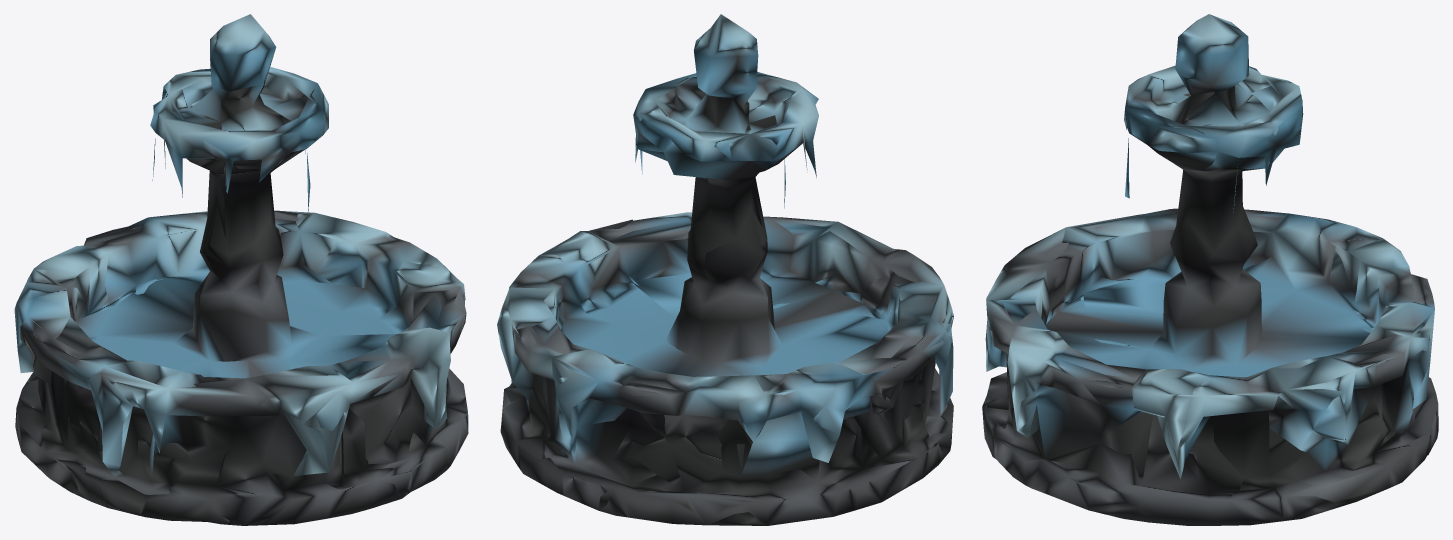
File: gen3d-frozen-fountain-lod0.glb
The picture shows the model from 3 angles, left to right: view 1: azimuth 30°, elevation 25°; view 2: azimuth 150°, elevation 25°; view 3: azimuth 270°, elevation 25°; orthographic projection.
Visible parts, largest first — view 1: part_0; view 2: part_0; view 3: part_0.
Boxes of the visible parts, x1,y1,x2,y2 form: part_0: (14,14,468,525); part_0: (497,14,953,525); part_0: (982,14,1438,525).
Bounding box in the file's own units: 0.9366 × 0.9558 × 0.9387.
